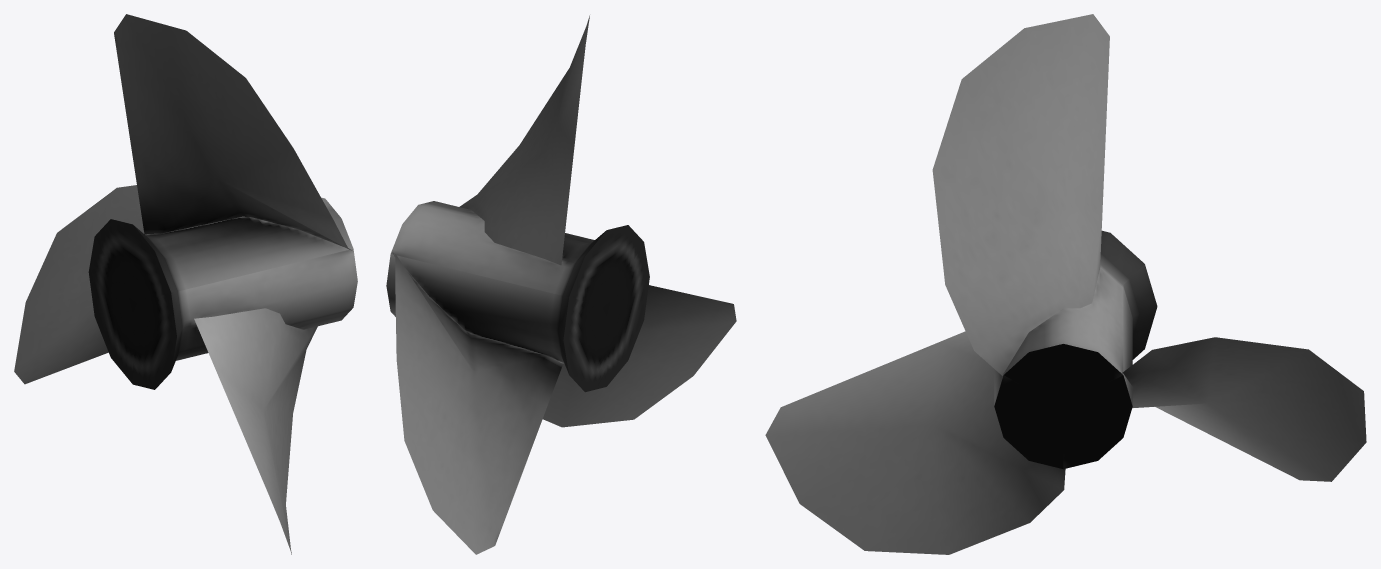
File: propeller.dae
The picture shows the model from 3 angles, left to right: view 1: azimuth 30°, elevation 25°; view 2: azimuth 150°, elevation 25°; view 3: azimuth 270°, elevation 25°; orthographic projection. The views are drawn at different scales.
Visible parts, largest first — view 1: Prop_Left; view 2: Prop_Left; view 3: Prop_Left.
Boxes of the visible parts, left/top/right/bottom form: Prop_Left: left=14, top=14, right=357, bottom=554; Prop_Left: left=386, top=15, right=736, bottom=554; Prop_Left: left=765, top=14, right=1366, bottom=554.
Bounding box in the file's own units: 0.1666 × 0.4234 × 0.3941.
